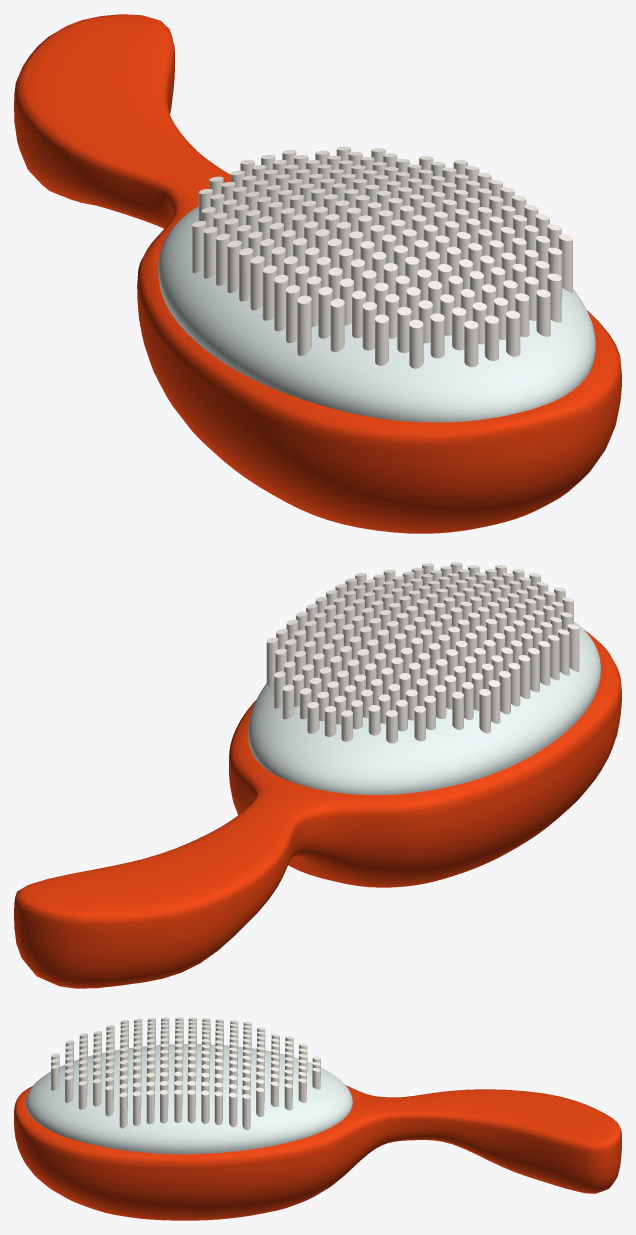
The model's file is hairbrush_1.glb.
The picture shows the model from 3 angles, top to bottom: view 1: azimuth 30°, elevation 25°; view 2: azimuth 150°, elevation 25°; view 3: azimuth 270°, elevation 25°; orthographic projection. The views are drawn at different scales.
Visible parts, largest first — view 1: f8f0d72e40d24bf8afa4b0157cbcb7c7; view 2: f8f0d72e40d24bf8afa4b0157cbcb7c7; view 3: f8f0d72e40d24bf8afa4b0157cbcb7c7.
Boxes of the visible parts, <box> form: f8f0d72e40d24bf8afa4b0157cbcb7c7: <box>14,14,621,533</box>; f8f0d72e40d24bf8afa4b0157cbcb7c7: <box>14,562,621,988</box>; f8f0d72e40d24bf8afa4b0157cbcb7c7: <box>14,1017,621,1220</box>.
Size of the model in its own units: 0.3772 by 0.2783 by 0.973.
